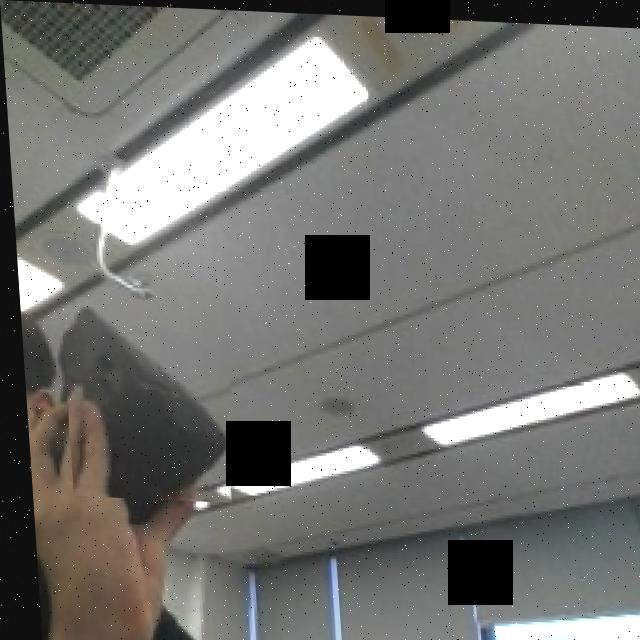shoe: (57, 299, 237, 501)
